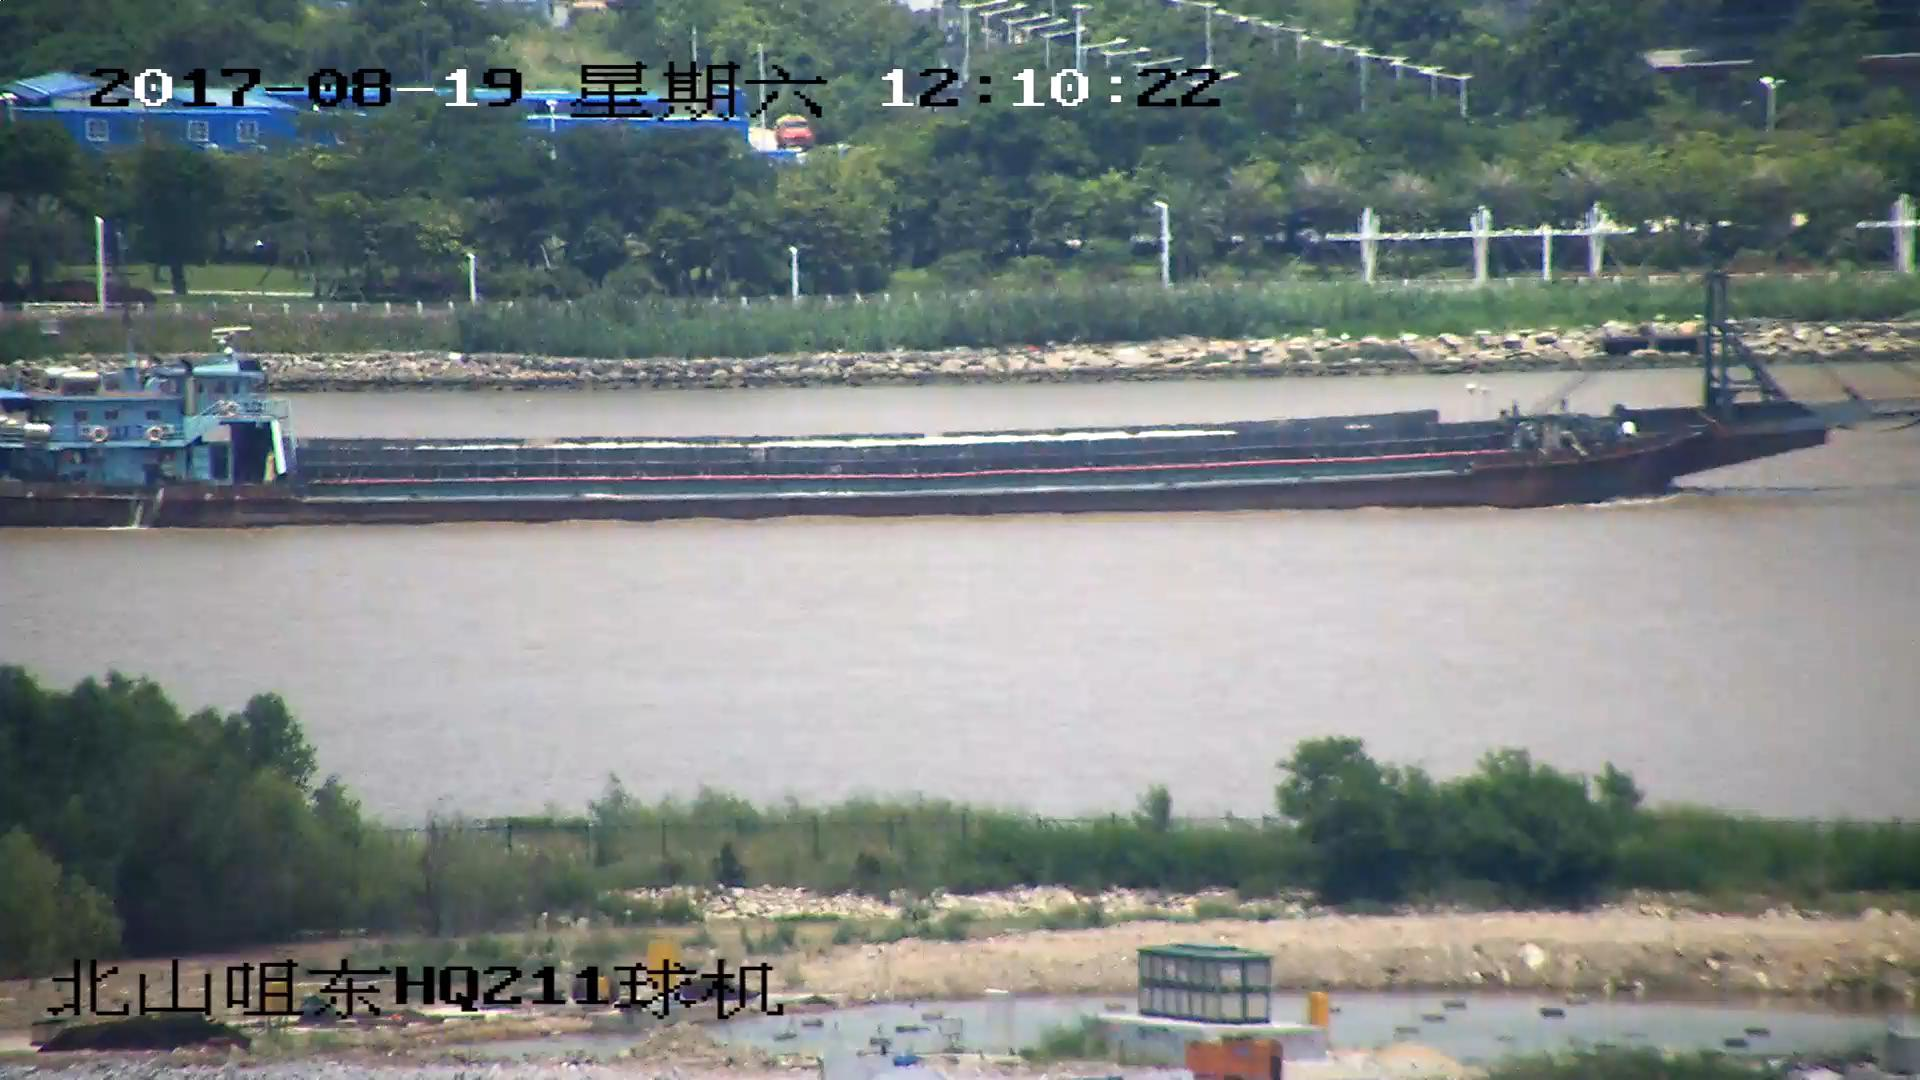Ship: (3, 222, 1920, 527)
